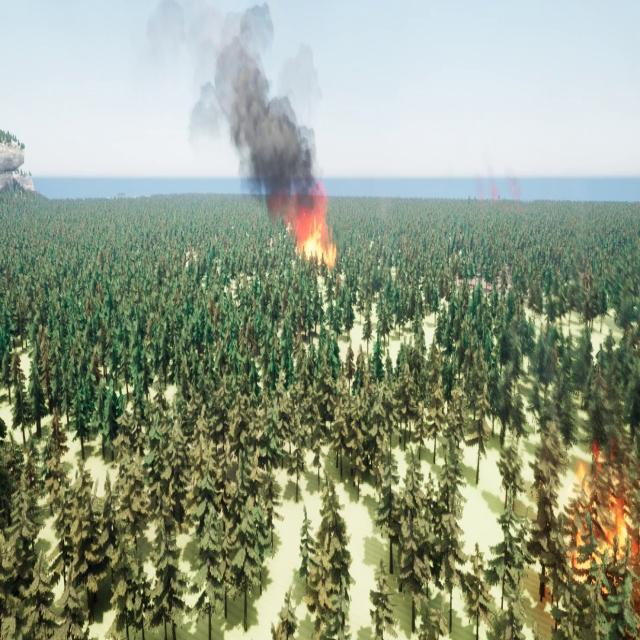fire: (564, 442, 640, 586), (302, 221, 342, 274)
smoke: (145, 0, 332, 235)
